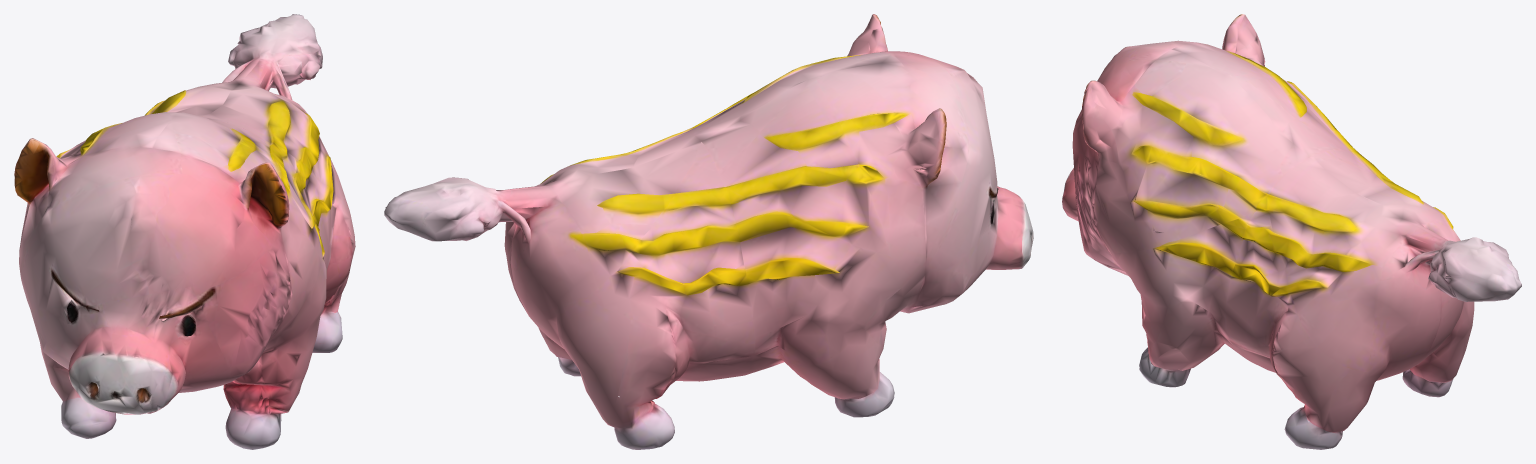
Rendered from pig.glb.
The picture shows the model from 3 angles, left to right: view 1: azimuth 30°, elevation 25°; view 2: azimuth 150°, elevation 25°; view 3: azimuth 270°, elevation 25°; orthographic projection. The views are drawn at different scales.
Parts seen in each view (by area): view 1: prop; view 2: prop; view 3: prop.
Boxes of the visible parts, x1=… form: prop: x1=14, y1=14, x2=355, y2=449; prop: x1=384, y1=14, x2=1033, y2=449; prop: x1=1062, y1=14, x2=1521, y2=449.
Bounding box in the file's own units: 1.47 × 1 × 1.44.
Materials: 1 (1 with a texture image).
